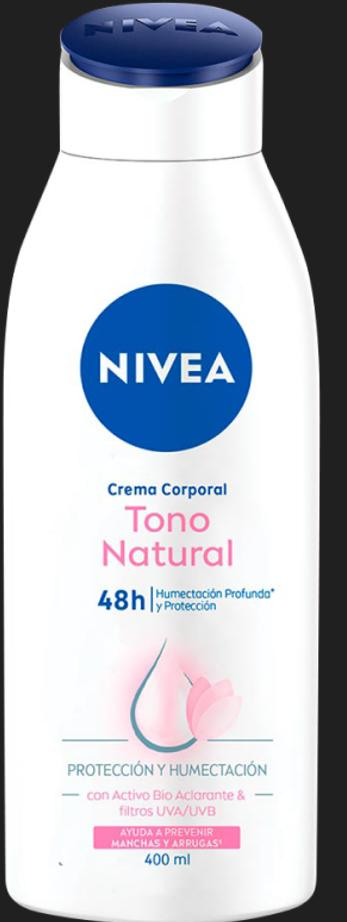brand: (90, 324, 256, 400)
extra_detail: (89, 497, 250, 572)
net_weight: (136, 849, 202, 876)
product_name: (103, 474, 235, 499)
